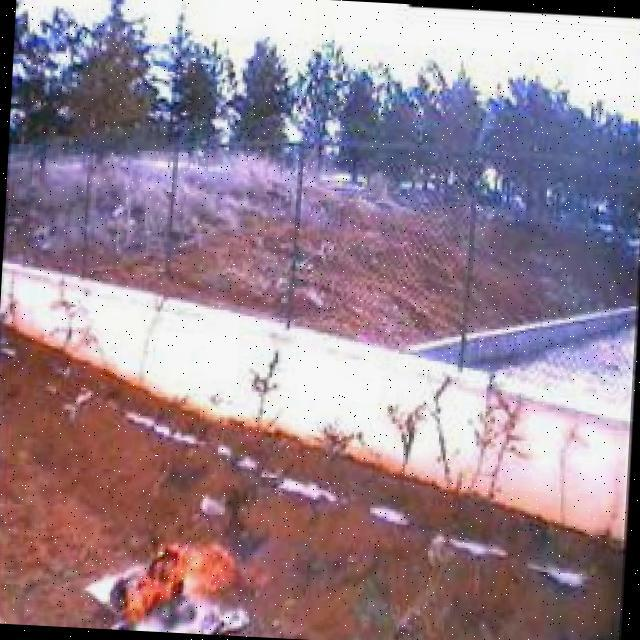Fire: (109, 532, 269, 634)
